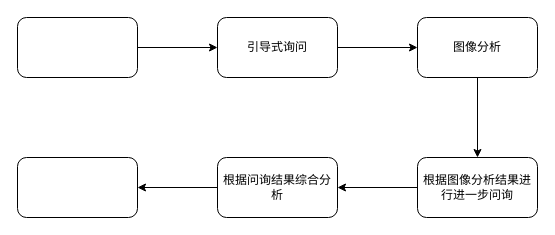
This 555x235 diagram has some shape labels left out. The shapes that lost their labels are listed below. From the top down, each one's centre as x and y in pixels, then its label:
At pixel 77 47: "理解问题".
At pixel 77 187: "得出可能病虫害并给出处理建议".
